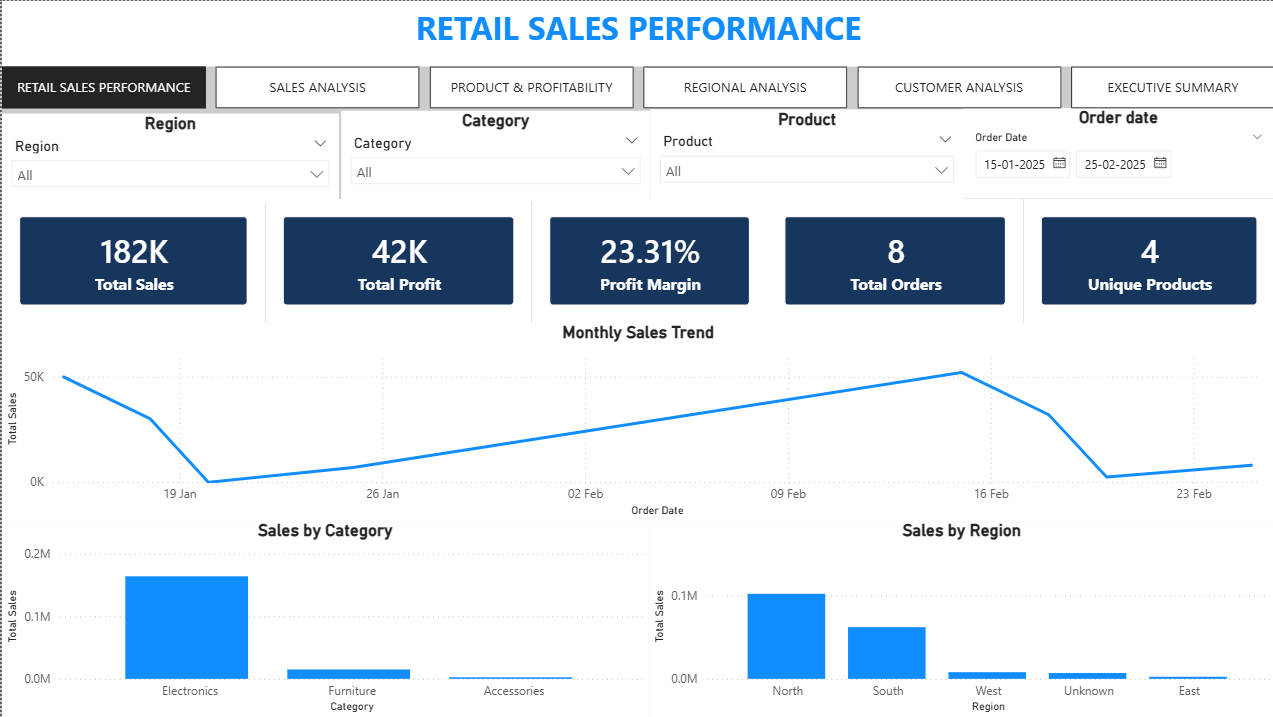

The page's visual inventory and layout, read from the dashboard file:
{"tool":"powerbi","page":{"name":"RETAIL SALES PERFORMANCE","canvas":[1280,720],"ordinal":0},"visuals":[{"type":"cardVisual","fields":{"Data":["SalesData.Total Sales"]},"box":[0,199,264.9,124.7],"z":0},{"type":"cardVisual","fields":{"Data":["SalesData.Unique Products"]},"box":[1027.3,199,252.3,124.7],"z":1000},{"type":"cardVisual","fields":{"Data":["SalesData.Total Profit"]},"box":[264.9,199,267.7,124.7],"z":2000},{"type":"cardVisual","fields":{"Data":["SalesData.Profit Margin"]},"box":[532.6,199,236.9,124.7],"z":3000},{"type":"cardVisual","fields":{"Data":["SalesData.Total Orders"]},"box":[769.5,199,257.9,124.7],"z":4000},{"type":"lineChart","title":"Monthly Sales Trend","fields":{"Y":["SalesData.Total Sales"],"Category":["SalesData.Order Date"]},"box":[0,323.8,1279.6,199],"z":5000},{"type":"clusteredColumnChart","title":"Sales by Category","fields":{"Category":["ProductMaster.Category"],"Y":["SalesData.Total Sales"]},"box":[0,522.8,650.3,197.6],"z":6000},{"type":"clusteredColumnChart","title":"Sales by Region","fields":{"Category":["SalesData.Region"],"Y":["SalesData.Total Sales"]},"box":[650.3,522.8,629.3,197.6],"z":7000},{"type":"slicer","title":"Region","fields":{"Values":["SalesData.Region"]},"box":[0,113,338.9,90.7],"z":8000},{"type":"slicer","title":"Category","fields":{"Values":["ProductMaster.Category"]},"box":[340.6,110.7,311.1,91.1],"z":9000},{"type":"slicer","title":"Product","fields":{"Values":["ProductMaster.Product"]},"box":[651.7,109.3,315.4,91.1],"z":10000},{"type":"slicer","title":"Order date","fields":{"Values":["SalesData.Order Date"]},"box":[965.7,107.9,314,91.1],"z":11000},{"type":"textbox","box":[0,0,1280,66],"z":12000},{"type":"pageNavigator","box":[0,66,1280,42],"z":13000}]}

Visuals, with their boxes in screenshot pixels (x1, y1, x2, y2), scaled from the page's 1280x720 canvas onto the 1273x717 screenshot:
cardVisual - SalesData.Total Sales: [0, 198, 263, 322]
cardVisual - SalesData.Unique Products: [1022, 198, 1272, 322]
cardVisual - SalesData.Total Profit: [263, 198, 530, 322]
cardVisual - SalesData.Profit Margin: [530, 198, 765, 322]
cardVisual - SalesData.Total Orders: [765, 198, 1022, 322]
"Monthly Sales Trend" lineChart: [0, 322, 1272, 521]
"Sales by Category" clusteredColumnChart: [0, 521, 647, 716]
"Sales by Region" clusteredColumnChart: [647, 521, 1272, 716]
"Region" slicer: [0, 113, 337, 203]
"Category" slicer: [339, 110, 648, 201]
"Product" slicer: [648, 109, 962, 200]
"Order date" slicer: [960, 107, 1272, 198]
textbox: [0, 0, 1272, 66]
pageNavigator: [0, 66, 1272, 108]
